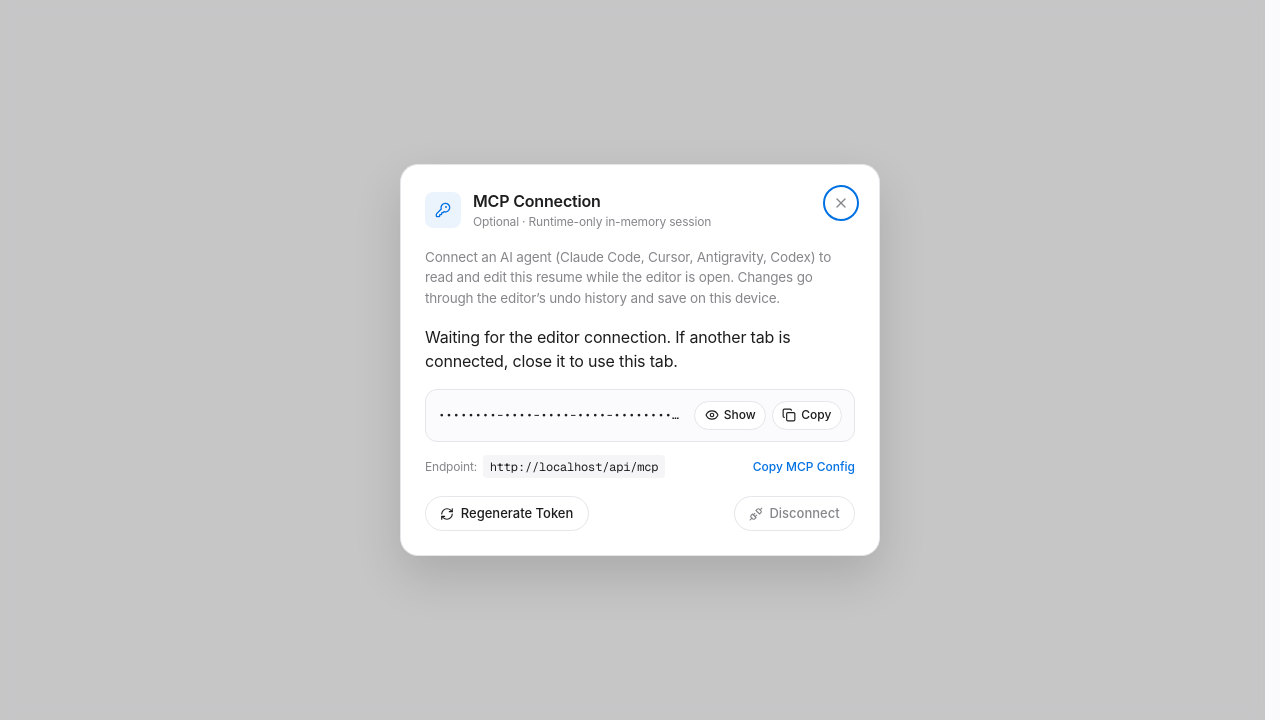
Test: McpModal › keeps token hidden on request until Show is clicked, and confirms before regenerate
Earlier steps of the test are not shown.
Later steps or results of the test are not shown.
Expected: the text "11111111-2222-3333-4444-555555555555" is not shown
Click the button with aria-label "show token" at (730, 416), box [694,401,766,430]
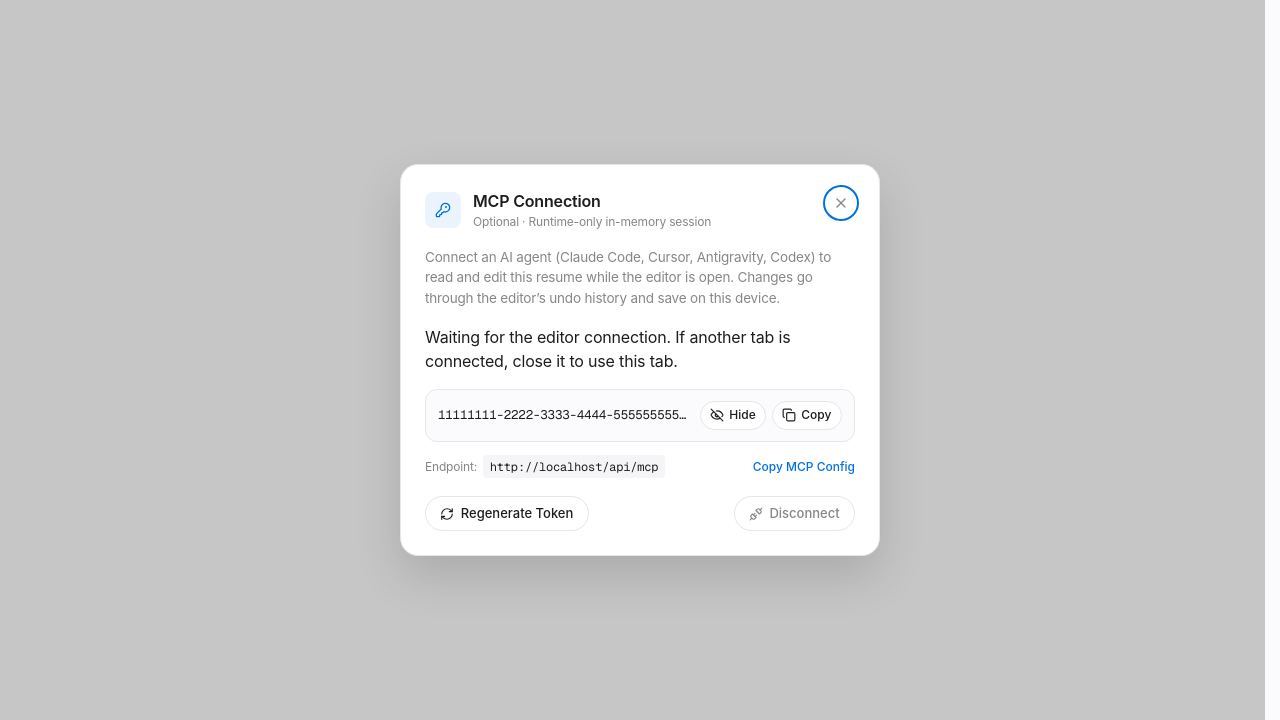
Now the text "11111111-2222-3333-4444-555555555555" is shown, box [438,406,692,425]
